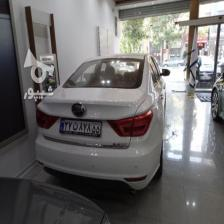plate: (58, 119, 101, 135)
